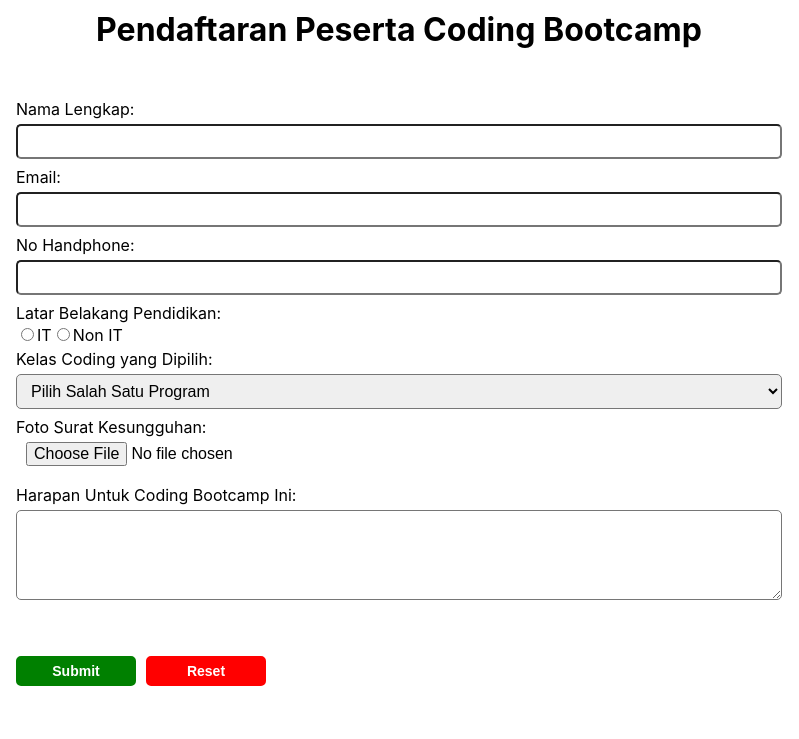
Form › validated input email
Type "gozzafadillah.com" into the field with test id "email". click: (399, 210)
box: [16,192,782,227]
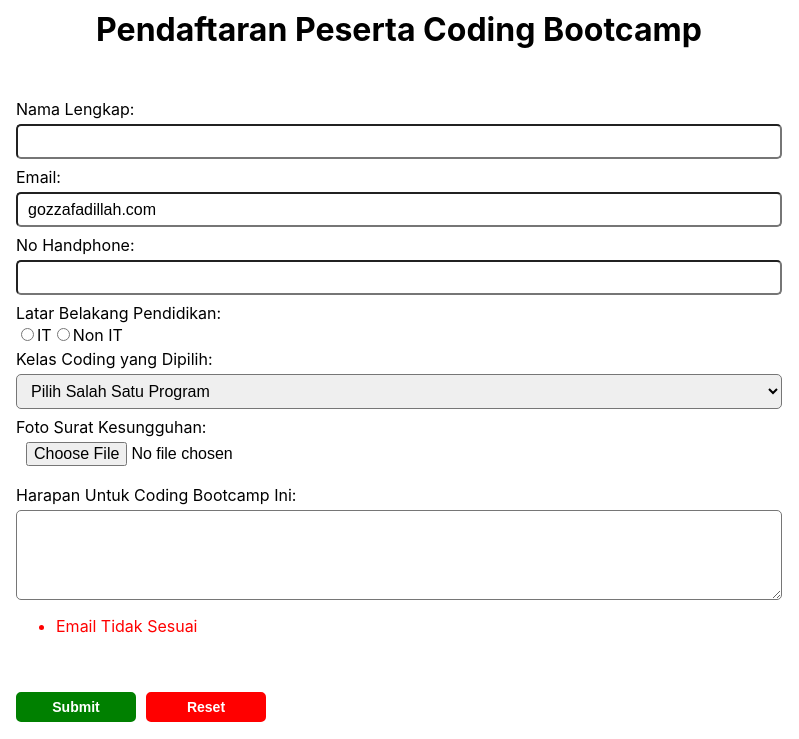
Check: the list item "Email Tidak Sesuai" is shown, box [56,616,198,636]
